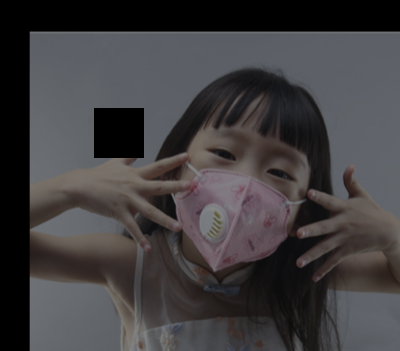with_mask: (174, 124, 309, 272)
